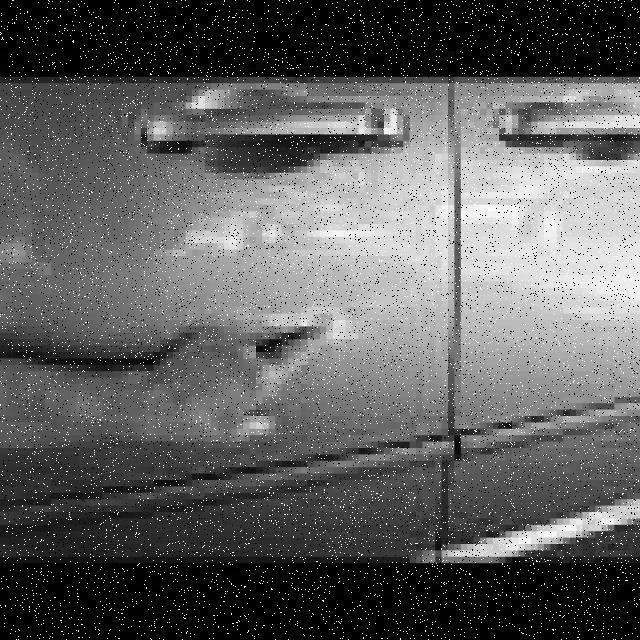doorouter-dent: (0, 84, 460, 577), (455, 72, 634, 565)
